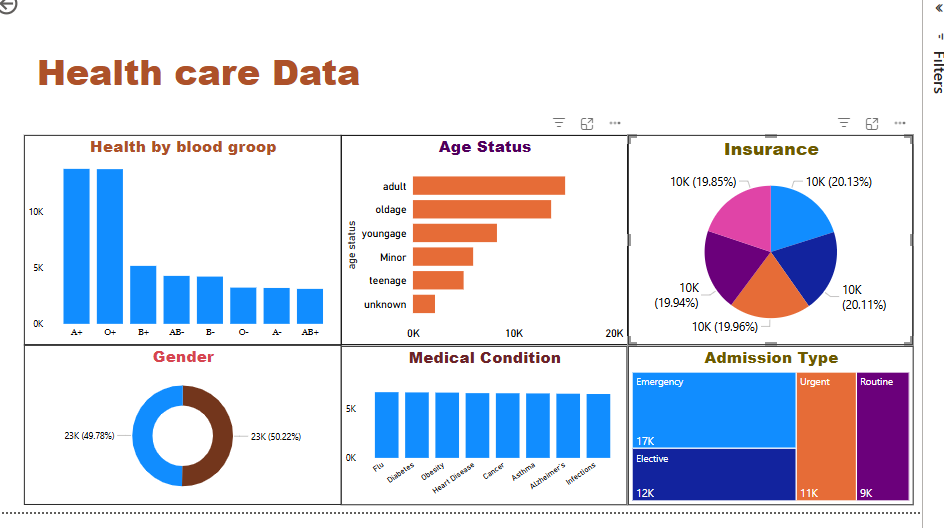

The dashboard page shown, as its layout file describes it:
{"tool":"powerbi","page":{"name":"Page 1","canvas":[1280,720],"ordinal":0},"visuals":[{"type":"textbox","box":[57.1,73.9,510.7,97.4],"z":1000},{"type":"columnChart","title":"Health by blood groop","fields":{"Category":["modified_healthcare_dataset.Blood Type"],"Y":["modified_healthcare_dataset.total"]},"box":[43.7,201.6,436.7,288.9],"z":2000},{"type":"donutChart","title":"Gender","fields":{"Category":["modified_healthcare_dataset.Gender"],"Y":["modified_healthcare_dataset.total"]},"box":[43.7,490.5,436.7,220.1],"z":2001},{"type":"barChart","title":"Age Status","fields":{"Category":["modified_healthcare_dataset.age status"],"Y":["modified_healthcare_dataset.total"]},"box":[480.4,201.6,394.8,288.9],"z":2002},{"type":"pieChart","title":"Insurance","fields":{"Category":["modified_healthcare_dataset.Insurance Provider"],"Y":["modified_healthcare_dataset.total"]},"box":[875.2,201.6,393.1,288.9],"z":2003},{"type":"clusteredColumnChart","title":" Medical Condition","fields":{"Y":["modified_healthcare_dataset.total"],"Category":["modified_healthcare_dataset.Medical Condition"]},"box":[481,491,394,219],"z":2004},{"type":"treemap","title":" Admission Type","fields":{"Group":["modified_healthcare_dataset.Admission Type"],"Values":["modified_healthcare_dataset.total"]},"box":[875,491,393,219],"z":2006},{"type":"actionButton","box":[0,0,100,40],"z":2007}]}

Visuals, with their boxes in screenshot pixels (x1, y1, x2, y2):
textbox: (left=34, top=41, right=404, bottom=112)
"Health by blood groop" columnChart: (left=24, top=134, right=340, bottom=343)
"Gender" donutChart: (left=24, top=343, right=340, bottom=502)
"Age Status" barChart: (left=340, top=134, right=626, bottom=343)
"Insurance" pieChart: (left=626, top=134, right=911, bottom=343)
" Medical Condition" clusteredColumnChart: (left=341, top=343, right=626, bottom=502)
" Admission Type" treemap: (left=626, top=343, right=911, bottom=502)
actionButton: (left=0, top=0, right=65, bottom=17)
